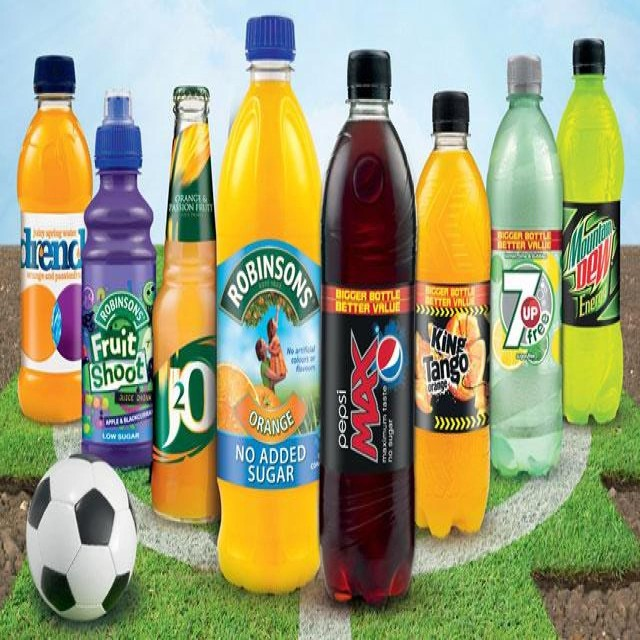pepsi: (373, 334, 407, 384)
